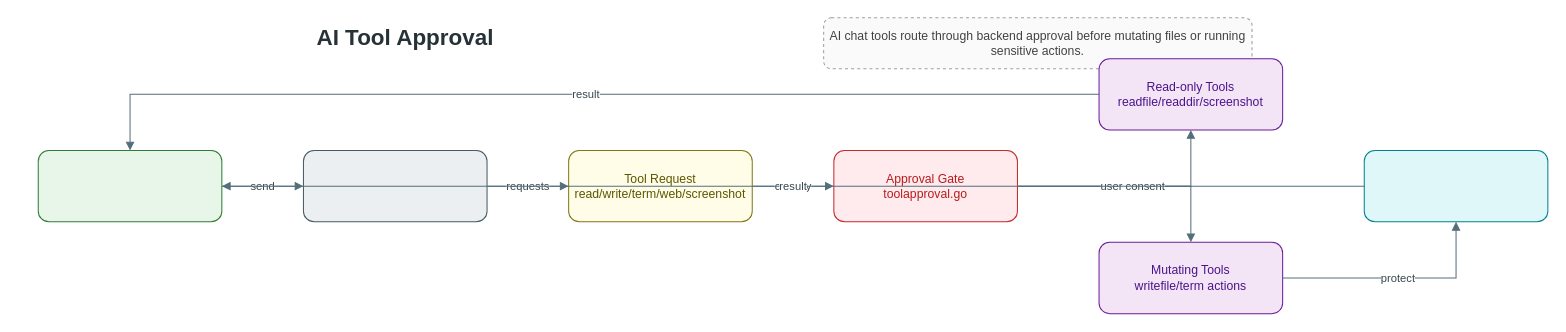
This 1566x332 diagram has some shape labels left out. Here are the shapes that lost their labels. From the top down, the box of each, then its label:
(37, 149, 222, 222): Wave AI Chat user prompt + context
(302, 149, 487, 222): AI Provider OpenAI/Claude/Gemini/local
(1363, 149, 1548, 222): Backup + Result filebackup + response
